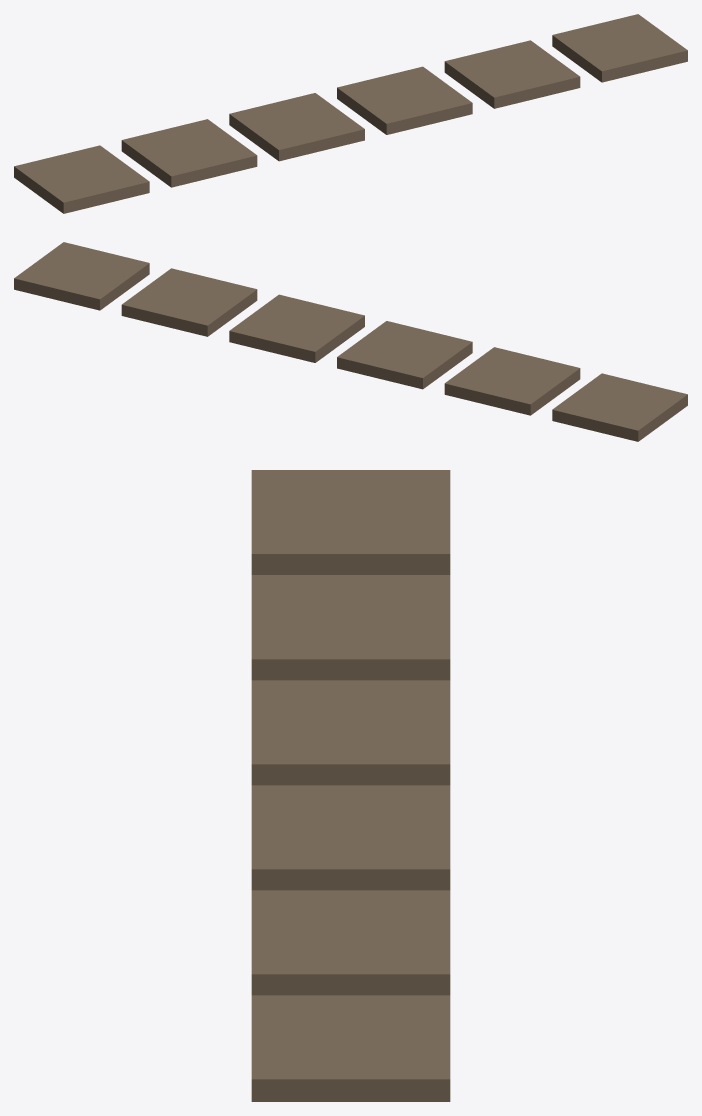
File: ant_trail_segment.glb
3 renders of one model, top to bottom at view 1: azimuth 30°, elevation 25°; view 2: azimuth 150°, elevation 25°; view 3: azimuth 270°, elevation 25°, orthographic. The views are drawn at different scales.
Visible parts, largest first — view 1: world; view 2: world; view 3: world.
Boxes of the visible parts, <box> form: world: <box>14,14,687,213</box>; world: <box>14,242,687,441</box>; world: <box>251,470,450,1101</box>.
Size of the model in its own units: 0.58 by 0.01 by 0.08.
